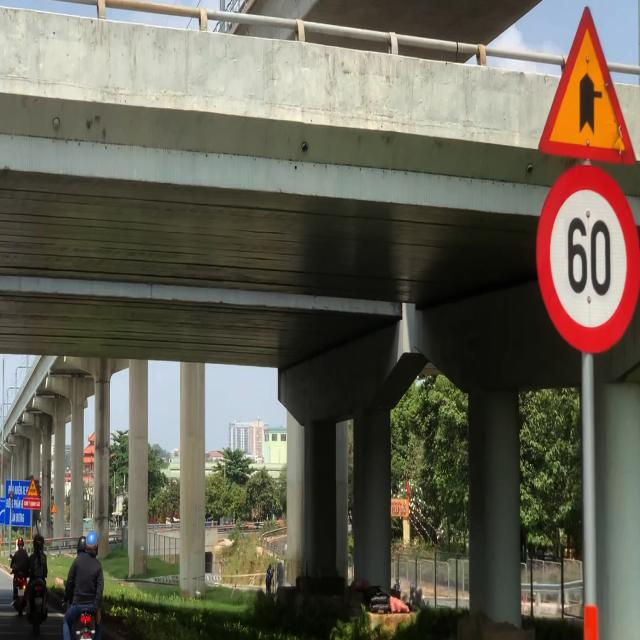Giao voi duong khong uu tien: (535, 0, 639, 160)
Nguy hiem: (27, 478, 39, 498)
Toc do toi da: (536, 163, 640, 354)
